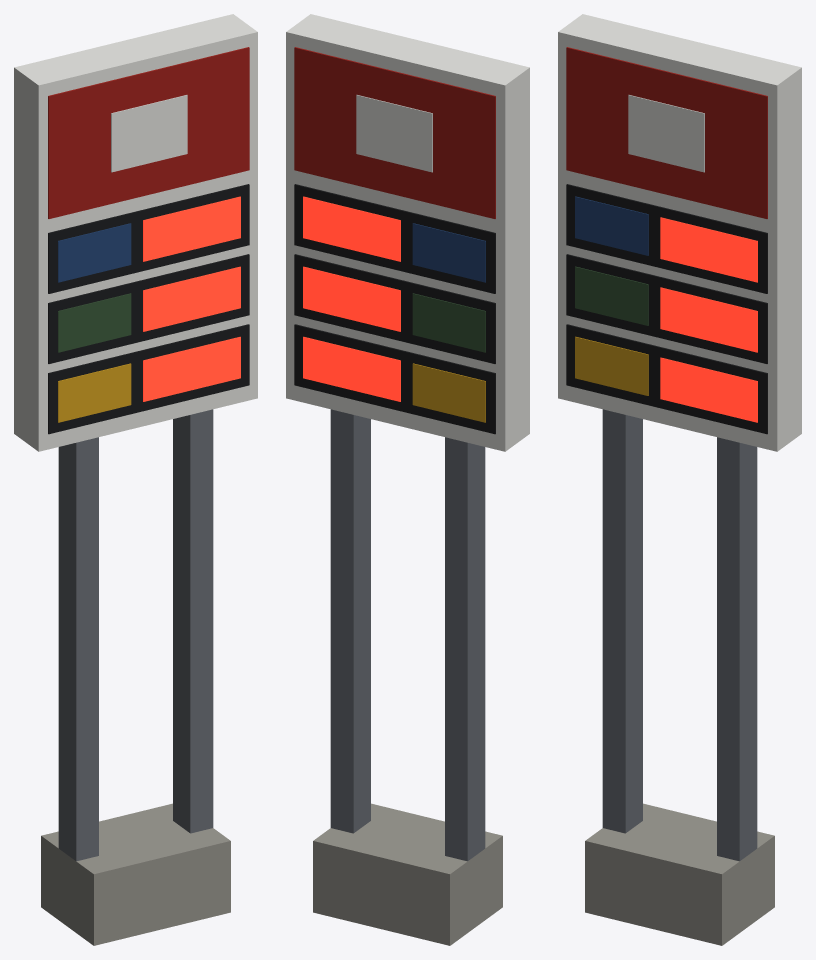
The model's file is price_sign.glb.
3 views of the same model, side by side, from view 1: azimuth 30°, elevation 25°; view 2: azimuth 150°, elevation 25°; view 3: azimuth 330°, elevation 25° (orthographic).
Parts seen in each view (by area): view 1: price_sign; view 2: price_sign; view 3: price_sign.
Part boxes in pixels (x1,y1,x2,y2): price_sign: [14, 14, 257, 945]; price_sign: [286, 14, 529, 945]; price_sign: [558, 14, 801, 945].
Size of the model in its own units: 1.44 by 5.4 by 0.6.
1 material, 1 textured.
